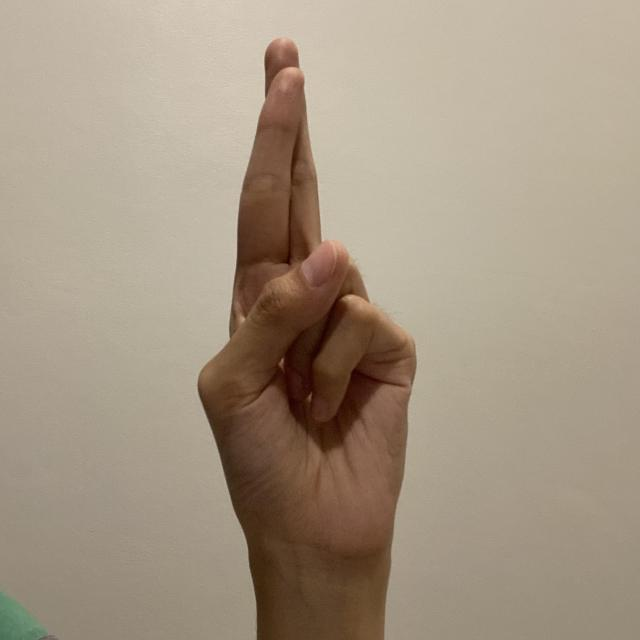R: (195, 33, 420, 566)
